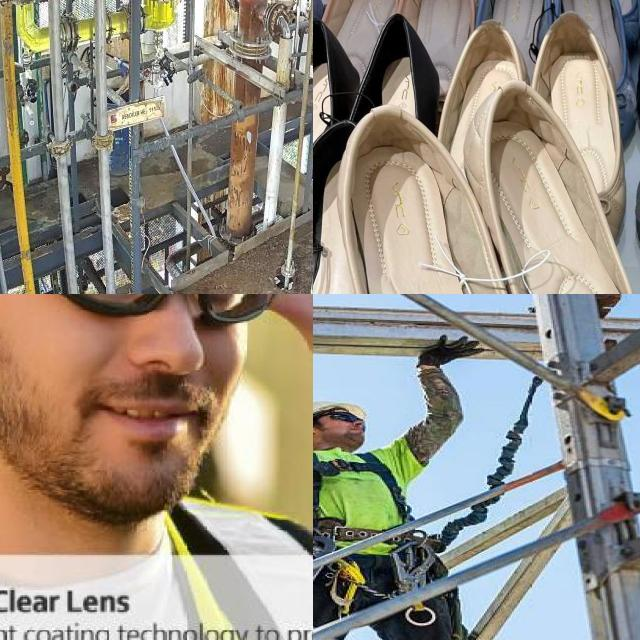Harness: (313, 453, 411, 528)
Sandals: (313, 64, 640, 294)
face_nomask: (39, 294, 275, 475)
glasses: (0, 294, 282, 331)
